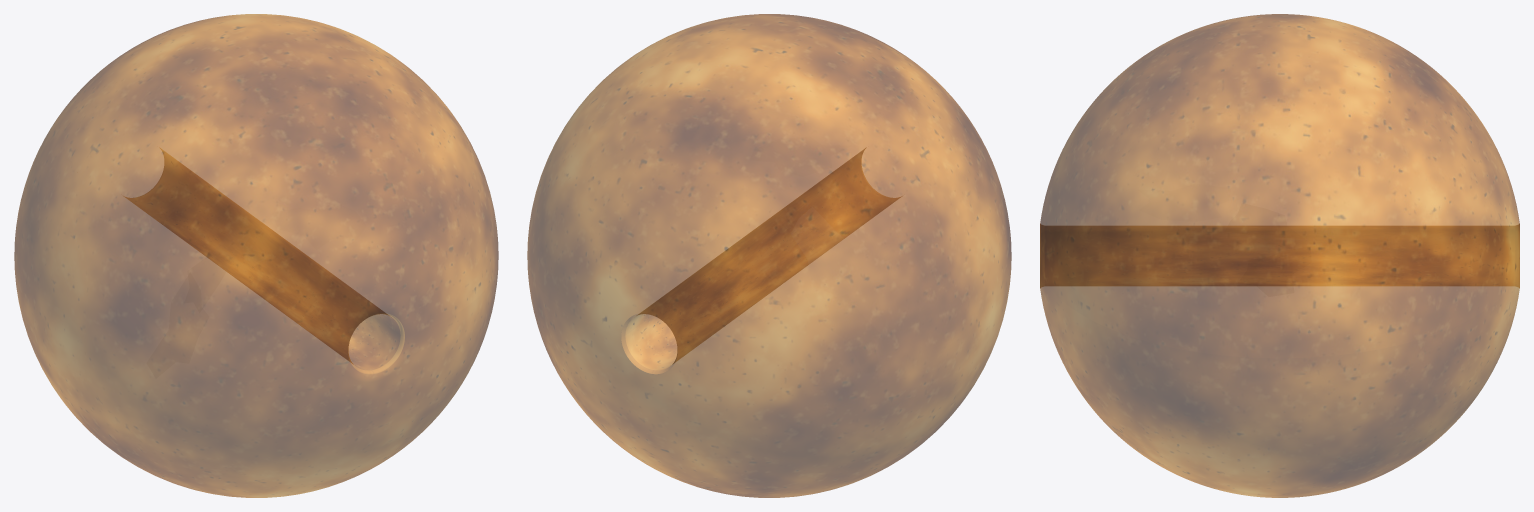
Rendered from baltic-amber.glb.
The picture shows the model from 3 angles, left to right: view 1: azimuth 30°, elevation 25°; view 2: azimuth 150°, elevation 25°; view 3: azimuth 270°, elevation 25°; orthographic projection.
Parts seen in each view (by area): view 1: baltic-amber.001; view 2: baltic-amber.001; view 3: baltic-amber.001.
Boxes of the visible parts, box(x1,y1,x2,y2) form: baltic-amber.001: box(14, 14, 498, 497); baltic-amber.001: box(527, 14, 1011, 497); baltic-amber.001: box(1040, 14, 1519, 497).
Bounding box in the file's own units: 0.008 × 0.008 × 0.00793.
2 materials, 1 textured.
